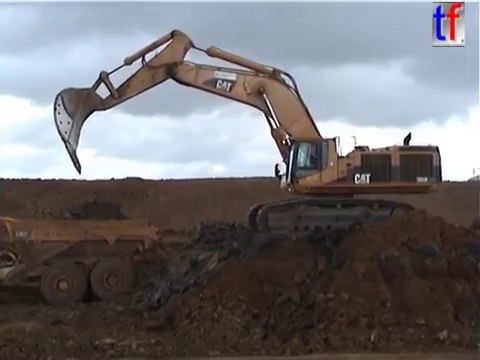excavator: (50, 26, 445, 242)
truck: (1, 213, 162, 308), (465, 166, 480, 188)
